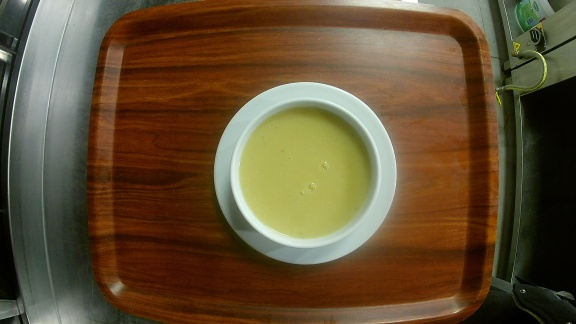mercimek: (213, 82, 399, 265)
